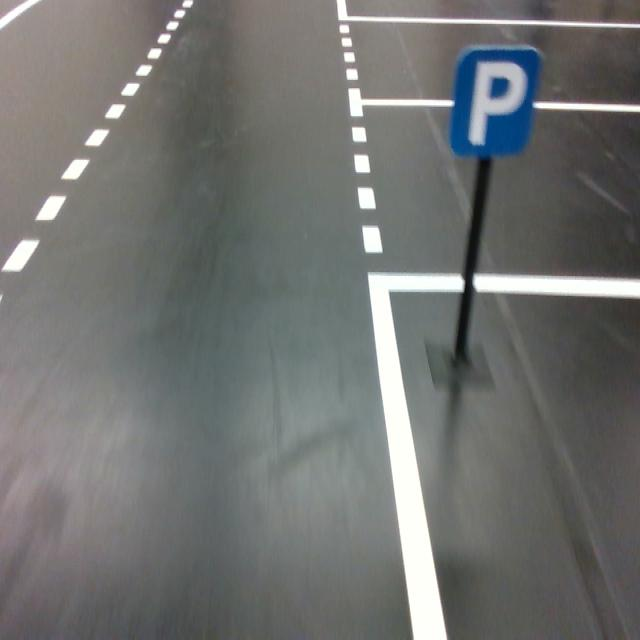parking-sign: (448, 45, 544, 159)
